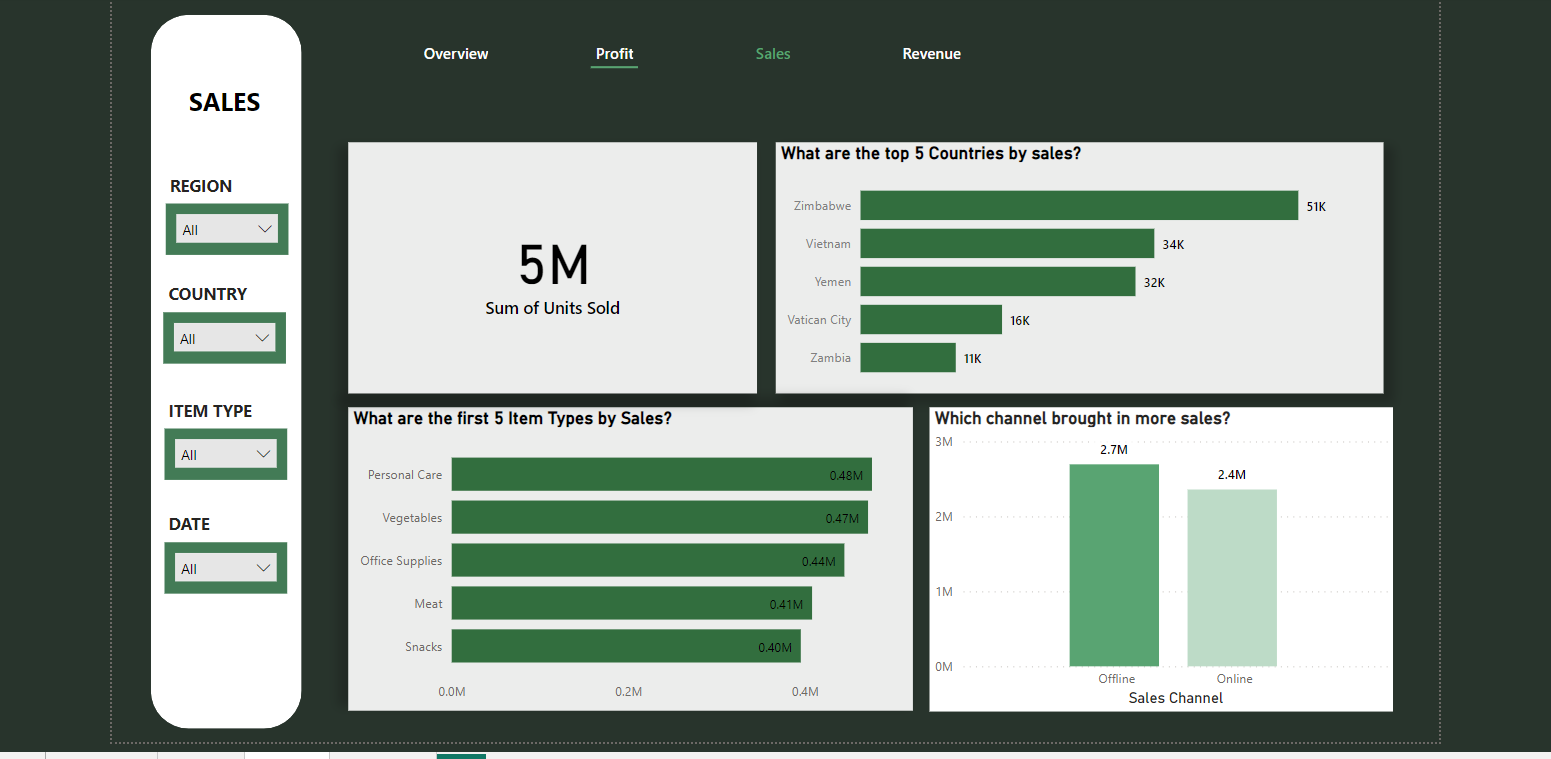

The page's visual inventory and layout, read from the dashboard file:
{"tool":"powerbi","page":{"name":"Sales","canvas":[1280,720],"ordinal":2},"visuals":[{"type":"pageNavigator","box":[260.7,38.4,603.8,32.9],"z":0},{"type":"shape","box":[462.4,54.9,45.3,26.1],"z":1000},{"type":"barChart","title":"What are the top 5 Countries by sales?","fields":{"Y":["Sum(1000 Sales Records.Units Sold)"],"Category":["1000 Sales Records.Country"]},"box":[640.4,141.1,586.1,242.4],"z":3000},{"type":"barChart","title":"What are the first 5 Item Types by Sales?","fields":{"Category":["1000 Sales Records.Item Type"],"Y":["Sum(1000 Sales Records.Units Sold)"]},"box":[227.9,396.8,545.1,293.1],"z":4000},{"type":"card","fields":{"Values":["Sum(1000 Sales Records.Units Sold)"]},"box":[227.9,141.1,394.4,242.4],"z":5000},{"type":"lineStackedColumnComboChart","title":"Which channel brought in more sales?","fields":{"Category":["1000 Sales Records.Sales Channel"],"Y":["Sum(1000 Sales Records.Units Sold)"]},"box":[789,396.6,447.3,293.7],"z":6000},{"type":"shape","box":[37.4,18.1,145.9,688.6],"z":7000},{"type":"slicer","fields":{"Values":["1000 Sales Records.Region"]},"box":[51.9,200.2,118.2,49.4],"z":8000},{"type":"slicer","fields":{"Values":["1000 Sales Records.Country"]},"box":[49.5,305.6,118,49.4],"z":9000},{"type":"slicer","fields":{"Values":["1000 Sales Records.Item Type"]},"box":[50.9,416.7,118,49.4],"z":10000},{"type":"slicer","fields":{"Values":["Date.Date"]},"box":[50.9,526.5,118,49.4],"z":11000},{"type":"textbox","box":[50.7,166.4,94.1,33.8],"z":12000},{"type":"textbox","box":[49.4,271.4,94.1,33.8],"z":13000},{"type":"textbox","box":[49.4,383.5,117,33.8],"z":14000},{"type":"textbox","box":[49.4,493.3,117,33.8],"z":15000},{"type":"textbox","box":[1.2,80.8,214.7,42.2],"z":15001}]}

Visuals, with their boxes in screenshot pixels (x1, y1, x2, y2):
pageNavigator: crop(376, 32, 1004, 66)
shape: crop(586, 49, 633, 76)
"What are the top 5 Countries by sales?" barChart: crop(771, 139, 1381, 391)
"What are the first 5 Item Types by Sales?" barChart: crop(342, 405, 909, 709)
card - Sum(1000 Sales Records.Units Sold): crop(342, 139, 752, 391)
"Which channel brought in more sales?" lineStackedColumnComboChart: crop(926, 404, 1391, 710)
shape: crop(144, 11, 296, 727)
slicer - 1000 Sales Records.Region: crop(159, 200, 282, 252)
slicer - 1000 Sales Records.Country: crop(157, 310, 279, 361)
slicer - 1000 Sales Records.Item Type: crop(158, 425, 281, 477)
slicer - Date.Date: crop(158, 540, 281, 591)
textbox: crop(158, 165, 256, 200)
textbox: crop(156, 274, 254, 309)
textbox: crop(156, 391, 278, 426)
textbox: crop(156, 505, 278, 540)
textbox: crop(106, 76, 330, 120)
